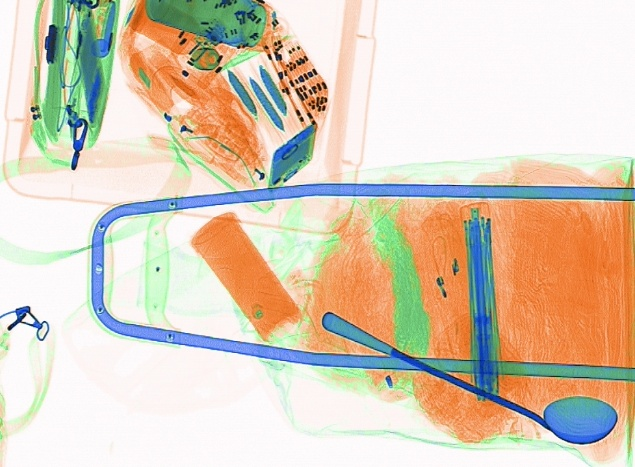glassbottle: (188, 46, 219, 70)
smallelectronicequipment: (73, 3, 106, 130), (267, 120, 318, 192)
umbrella: (460, 200, 504, 403)
